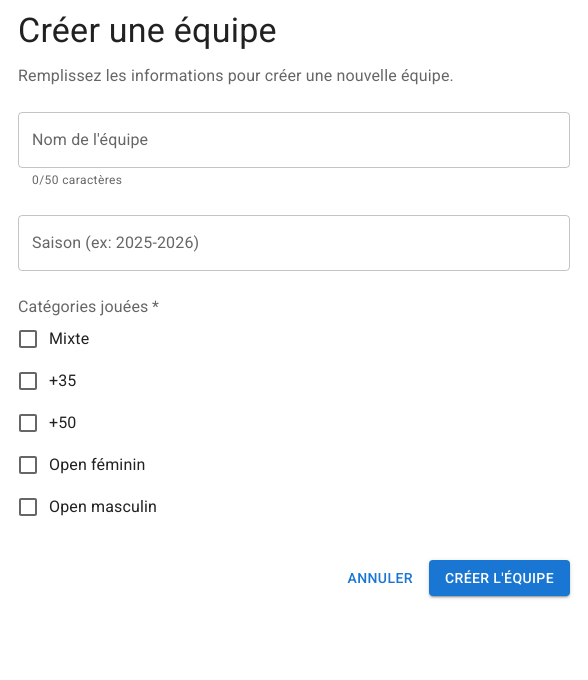
it: TeamCreationForm › devrait afficher une erreur si la création échoue
Type "Mon equipe" into the field labelled "Nom de l'équipe" at coordinates (294, 140), box [18, 112, 570, 168]
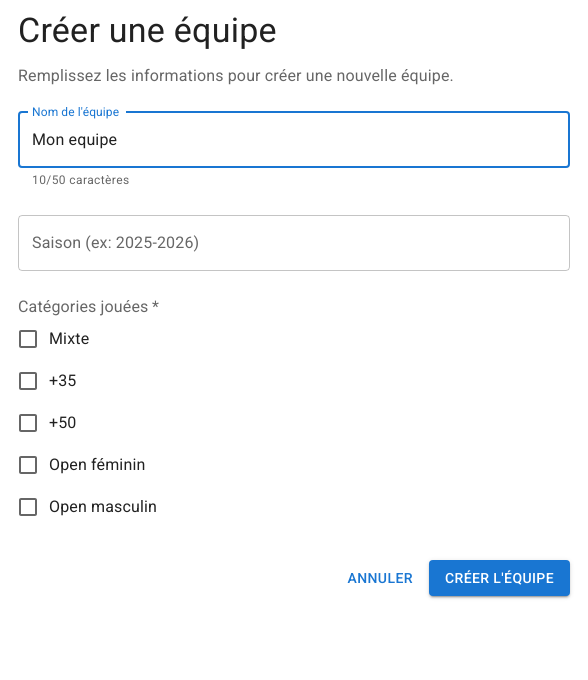
Type "2025-2026" into the field labelled "Saison (ex: 2025-2026)" at coordinates (294, 243), box [18, 215, 570, 271]
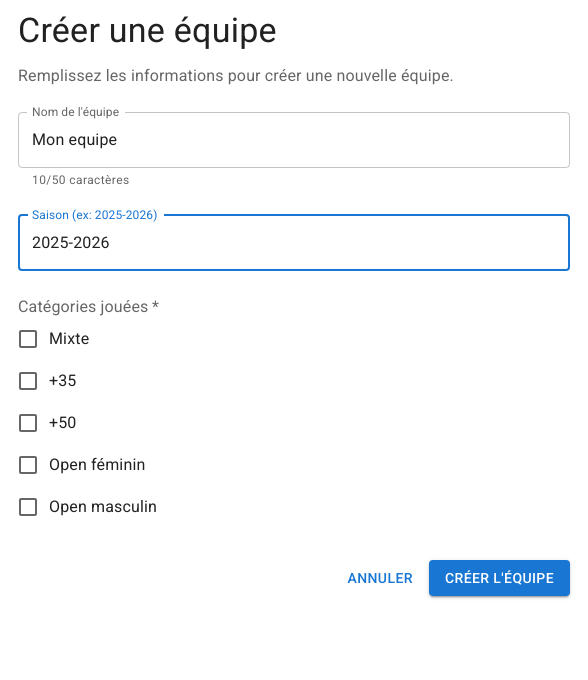
Click the checkbox labelled "Mixte" at coordinates (53, 339), box [16, 327, 89, 351]
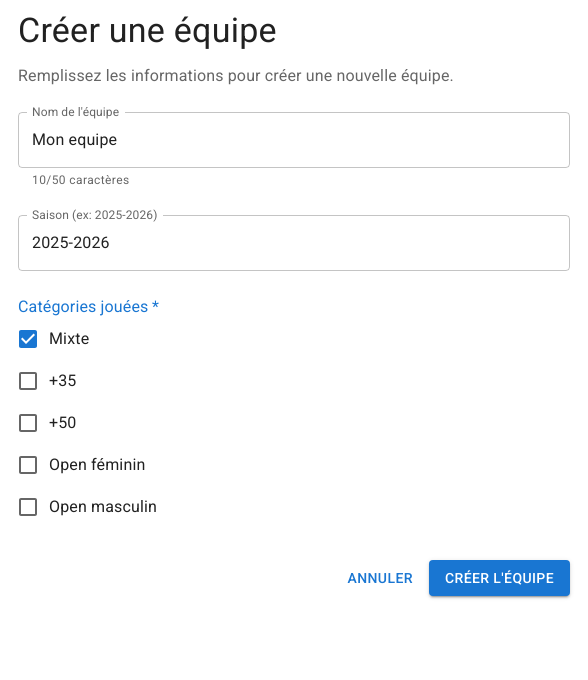
Click the button "Créer l'équipe" at coordinates (499, 578), box [429, 560, 570, 596]
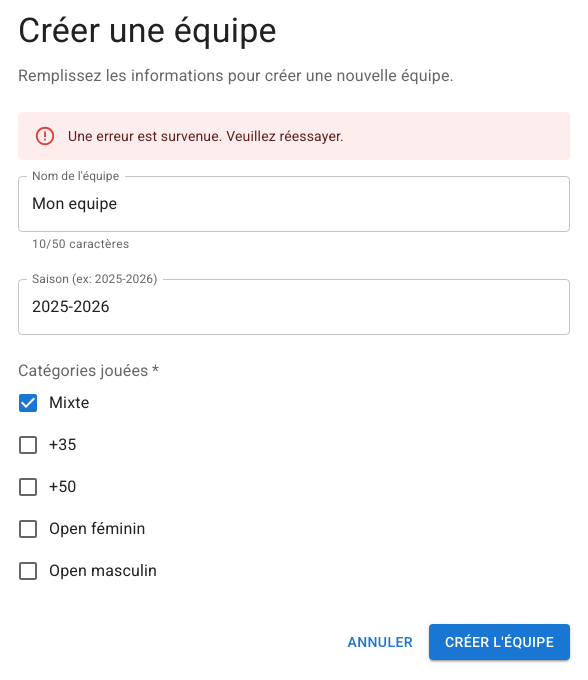
Now the text "Une erreur est survenue. Veuillez réessayer." is shown, box [68, 128, 344, 144]
